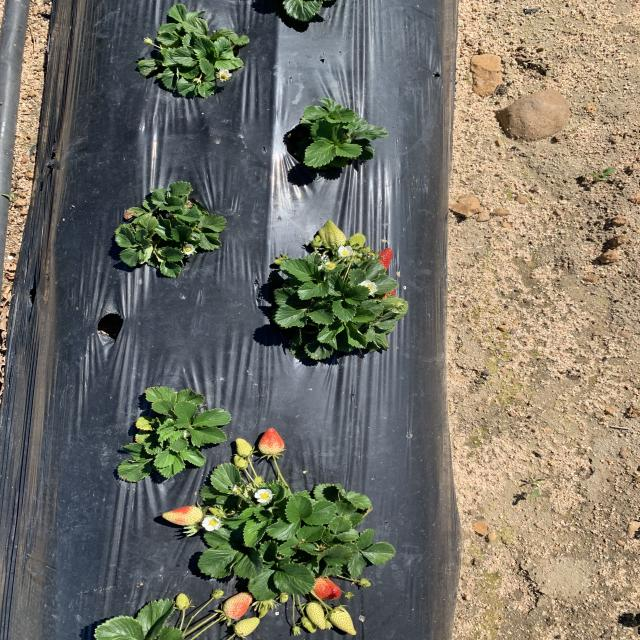unripe: (306, 575, 346, 603), (369, 245, 395, 278), (258, 427, 286, 455), (370, 288, 403, 304)
